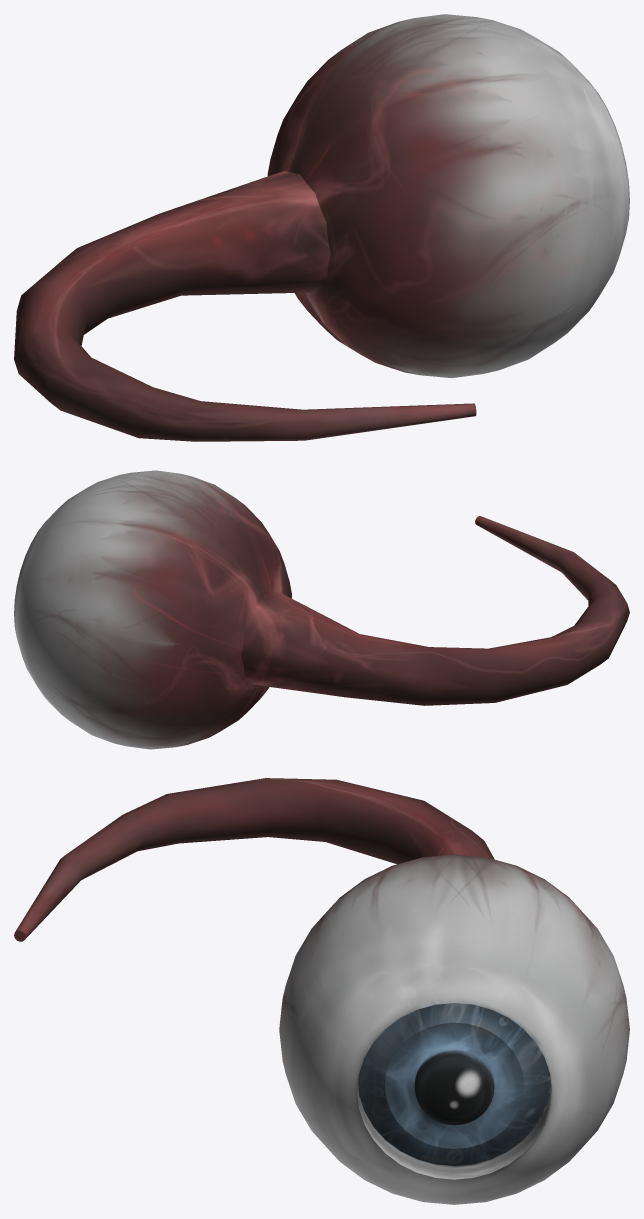
The model's file is SM_oko_slepca.fbx.
3 views of the same model, one above another, from view 1: azimuth 30°, elevation 25°; view 2: azimuth 150°, elevation 25°; view 3: azimuth 270°, elevation 25° (orthographic). The views are drawn at different scales.
Visible parts, largest first — view 1: skladnik_oko_slepca_2; view 2: skladnik_oko_slepca_2; view 3: skladnik_oko_slepca_2.
Part boxes in pixels (x1,y1,x2,y2): skladnik_oko_slepca_2: (14,14,629,441); skladnik_oko_slepca_2: (14,470,629,749); skladnik_oko_slepca_2: (14,778,629,1204).
Bounding box in the file's own units: 34.97 × 17.02 × 29.88.
